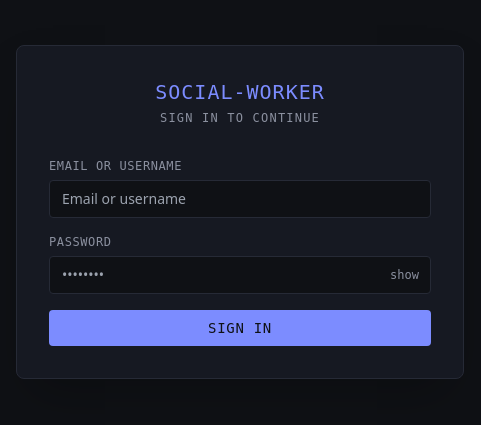
Scenario: LoginPage › shows validation error when submitting empty form
Click the button "sign in".
click(240, 328)  # box [49,310,431,346]
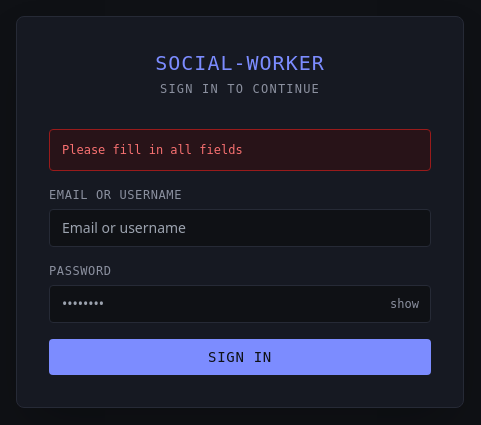
Result: the text "Please fill in all fields" is shown at [49,129,431,171]
